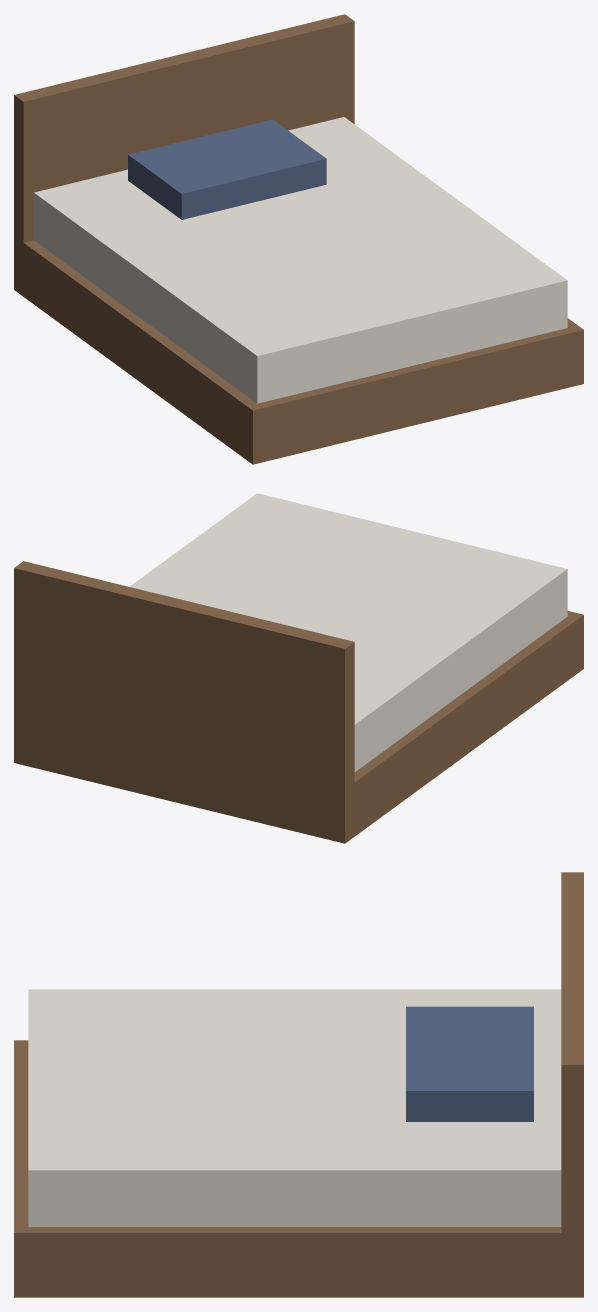
Rendered from bed.glb.
3 renders of one model, top to bottom at view 1: azimuth 30°, elevation 25°; view 2: azimuth 150°, elevation 25°; view 3: azimuth 270°, elevation 25°, orthographic. The views are drawn at different scales.
Parts seen in each view (by area): view 1: bed; view 2: bed; view 3: bed.
Part boxes in pixels (x1,y1,x2,y2): bed: (14, 14, 583, 464); bed: (14, 493, 583, 843); bed: (14, 872, 583, 1297).
Size of the model in its own units: 1.6 by 0.9 by 2.
